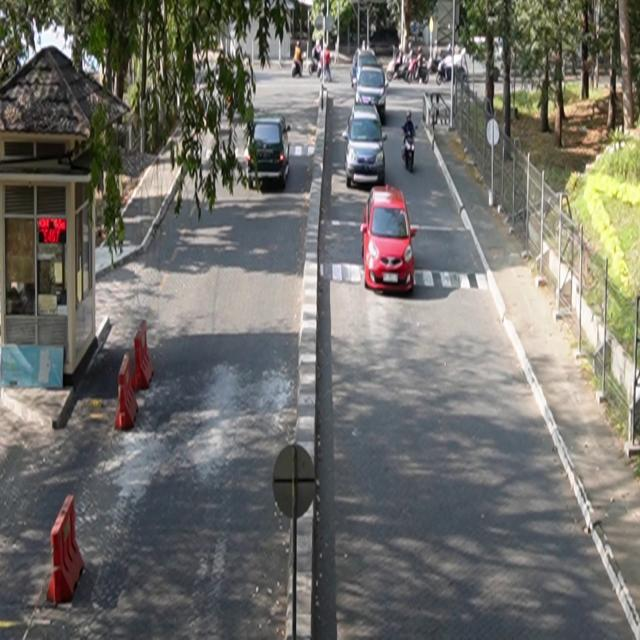car: (361, 185, 418, 294), (343, 104, 388, 188), (245, 115, 292, 190), (356, 66, 390, 124)
